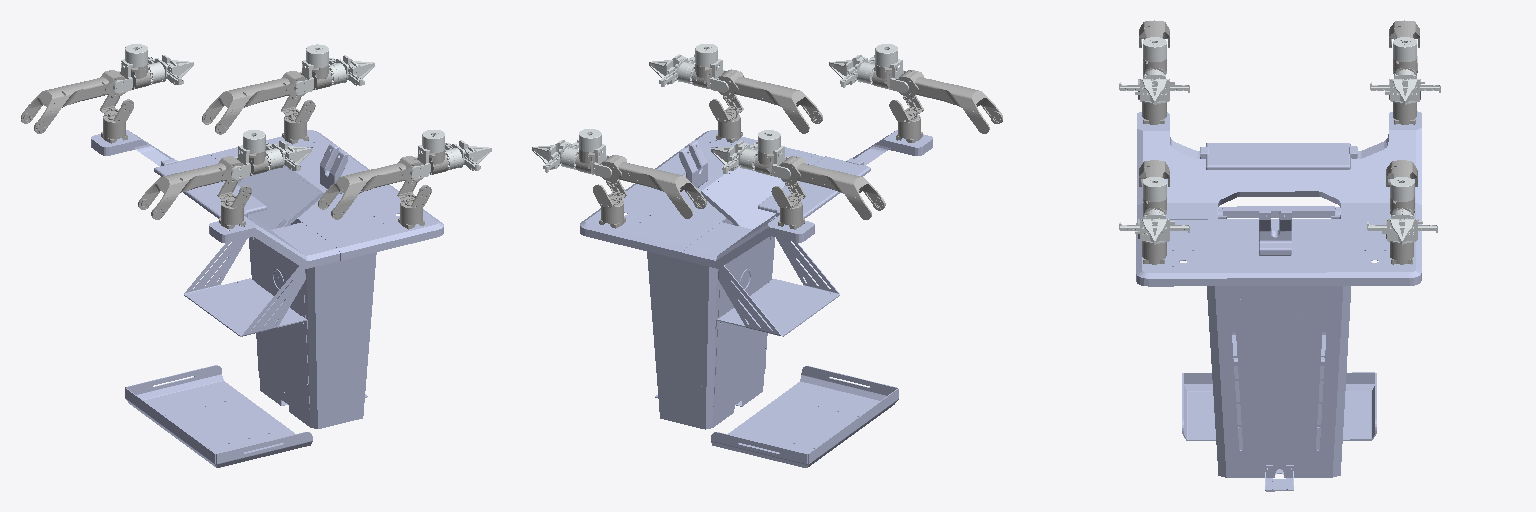
--- Render facts (derived) ---
Views: 3 orthographic renders of the robot side by side, from view 1: azimuth 30°, elevation 25°; view 2: azimuth 150°, elevation 25°; view 3: azimuth 270°, elevation 25°.
Model arx5_description with 51 links and 50 joints (24 revolute, 10 continuous, 8 prismatic, 8 fixed), rooted at footprint, posed every joint at zero.
Visible links, largest first — view 1: box2_Link, box1_Link, lr_link3, rr_link3, fl_link3, fr_link3, fr_link4, rr_link4, fl_link4, lr_link4, fl_link1, rr_link1 (+6 smaller); view 2: box2_Link, box1_Link, lr_link3, fr_link3, rr_link3, fl_link3, lr_link4, fr_link4, fl_link4, rr_link4, lr_link6, fl_link6 (+6 smaller); view 3: box2_Link, box1_Link, fl_link4, lr_link4, fl_link3, rr_link4, fr_link4, fr_link6, rr_link6, fr_link3, lr_link6, fl_link6 (+2 smaller).
Link boxes in pixels (bbox=[...]): box2_Link: bbox=[91, 130, 443, 428]; box1_Link: bbox=[125, 365, 367, 467]; lr_link3: bbox=[21, 70, 125, 133]; rr_link3: bbox=[138, 156, 243, 219]; fl_link3: bbox=[202, 71, 307, 134]; fr_link3: bbox=[318, 156, 423, 219]; fr_link4: bbox=[410, 130, 444, 178]; rr_link4: bbox=[231, 130, 265, 179]; fl_link4: bbox=[294, 44, 328, 93]; lr_link4: bbox=[113, 44, 147, 92]; fl_link1: bbox=[281, 95, 315, 123]; rr_link1: bbox=[217, 181, 251, 208]; box2_Link: bbox=[580, 130, 932, 429]; box1_Link: bbox=[655, 366, 898, 467]; lr_link3: bbox=[779, 156, 885, 219]; fr_link3: bbox=[717, 69, 822, 133]; rr_link3: bbox=[896, 70, 1002, 133]; fl_link3: bbox=[600, 155, 706, 218]; lr_link4: bbox=[758, 130, 790, 178]; fr_link4: bbox=[695, 44, 728, 92]; fl_link4: bbox=[579, 129, 611, 177]; rr_link4: bbox=[875, 44, 908, 92]; lr_link6: bbox=[722, 141, 757, 173]; fl_link6: bbox=[543, 140, 578, 172]; box2_Link: bbox=[1136, 111, 1421, 477]; box1_Link: bbox=[1182, 372, 1376, 491]; fl_link4: bbox=[1390, 177, 1414, 213]; lr_link4: bbox=[1393, 37, 1417, 73]; fl_link3: bbox=[1386, 160, 1417, 186]; rr_link4: bbox=[1143, 37, 1166, 73]; fr_link4: bbox=[1143, 177, 1166, 213]; fr_link6: bbox=[1119, 208, 1189, 235]; rr_link6: bbox=[1119, 69, 1189, 95]; fr_link3: bbox=[1139, 160, 1169, 186]; lr_link6: bbox=[1370, 69, 1440, 95]; fl_link6: bbox=[1367, 208, 1437, 235].
Bounding box of the posed robot: 1.04 × 0.788 × 0.9826 m (x, y, z).
34 mesh visuals loaded from 15 distinct referenced files (10 binary STL); not drawn: 4 (reference not matched to a file when rendering), 11 (file found but could not be loaded).

robot.urdf — arx5_description:
<?xml version="1.0" encoding="utf-8" ?>
<!-- This URDF was automatically created by SolidWorks to URDF Exporter! Originally created by Stephen Brawner ([email redacted]) 
     Commit Version: 1.6.0-4-g7f85cfe  Build Version: 1.6.7995.38578
     For more information, please see http://wiki.ros.org/sw_urdf_exporter -->
<robot name="arx5_description" xmlns:xacro="http://www.ros.org/wiki/xacro">
    <!-- <link name="footprint"/> -->

    <!-- <xacro:include filename="$(find tracer_description)/urdf/tracer_v1.xacro"/> -->

    <link name="footprint">
    </link>

    <!-- tracer base -->
    <link name="base_link">
        <visual>
            <origin xyz="0 0 0" rpy="1.57 0 0"/>
            <!--<origin xyz="0 0 0" rpy="0 0 0"/>-->
            <geometry>
                <mesh filename="package://aloha_isaac_sim/meshes/tracer_base_link_no_wheel.dae" />
                 <!--<box size="${base_x_size} ${base_y_size} ${base_z_size}"/>-->
            </geometry>
        </visual>
        <collision>
          <!--origin
            xyz="-0.0145261552504705 0.0231316650320557 0.00586280190939592"
            rpy="0 0 0" /-->
            <origin xyz="0 0 0" rpy="1.57 0 0"/>
          <geometry>
            <mesh
              filename="package://aloha_isaac_sim/meshes/tracer_base_link_no_wheel.dae" />
              <!--<box size="${base_x_size} ${base_y_size} ${base_z_size}"/>-->
          </geometry>
        </collision>
    </link>
    <link name="inertial_link">
        <inertial>
            <!--mass value="44.3898489950015" /-->
            <mass value="132.3898489950015" />
            <!-- <mass value="50" /> -->
            <!-- <origin xyz="-0.00065 -0.085 0.062" />
            <inertia ixx="0.6022" ixy="-0.02364" ixz="-0.1197" iyy="1.7386" iyz="-0.001544" izz="2.0296" /> -->
            <origin xyz="0.015 0.0231316650320557 0" />
            <!--<origin
              xyz="-0.0145261552504705 0.0231316650320557 0.00586280190939592"
              rpy="0 0 0" />-->
            <inertia ixx="0.185196122711036"
            ixy="4.30144213829512E-08"
            ixz="5.81037523686401E-08"
            iyy="0.364893736238929"
            iyz="-0.000386720198091934"
            izz="0.223868521722778" />
            <!--<inertia ixx="2.288641" ixy="0" ixz="0" iyy="5.103976" iyz="0" izz="3.431465" />-->
        </inertial>
    </link>

    <joint name="inertial_joint" type="fixed">
        <origin xyz="0 0 0" rpy="0 0 0" />
        <parent link="base_link" />
        <child link="inertial_link" />
    </joint>

    <link name="right_wheel_link">
        <inertial>
            <mass value="6" />
            <origin xyz="0 0 0" />
            <inertia ixx="0.7171" ixy="0" ixz="0" iyy="0.1361" iyz="0" izz="0.7171" />
        </inertial>
        <visual>
            <origin xyz="0 0 0" rpy="0 0 0" />
            <geometry>
                <mesh filename="package://aloha_isaac_sim/meshes/tracer_wheel.dae" />
            </geometry>
        </visual>
        <collision>
        <origin
            xyz="0 0 0"
            rpy="0 0 0" />
        <geometry>
            <mesh filename="package://aloha_isaac_sim/meshes/tracer_wheel.dae" />
        </geometry>
        </collision>
    </link>

    <joint name="right_wheel" type="continuous">
        <parent link="base_link"/>
        <child link="right_wheel_link"/>
        <origin xyz="0 -0.17 -0.082" rpy="0 0 0" />        
        <axis xyz="0 1 0" rpy="0 0 0" />
    </joint>

    <link name="left_wheel_link">
        <inertial>
            <mass value="6" />
            <origin xyz="0 0 0" />
            <inertia ixx="0.7171" ixy="0" ixz="0" iyy="0.1361" iyz="0" izz="0.7171" />
        </inertial>
        <visual>
            <origin xyz="0 0 0" rpy="0 0 0" />
            <geometry>
                <mesh filename="package://aloha_isaac_sim/meshes/tracer_wheel.dae" />
            </geometry>
        </visual>
        <collision>
        <origin
            xyz="0 0 0"
            rpy="0 0 0" />
        <geometry>
            <mesh filename="package://aloha_isaac_sim/meshes/tracer_wheel.dae" />
        </geometry>
        </collision>
    </link>

    <joint name="left_wheel" type="continuous">
        <parent link="base_link"/>
        <child link="left_wheel_link"/>
        <origin xyz="0 0.17 -0.082" rpy="0 0 0" />        
        <axis xyz="0 1 0" rpy="0 0 0" />
    </joint>

    <link name="fl_castor_link">
        <inertial>
            <mass value="1" />
            <origin xyz="0 0 0" />
            <inertia ixx="0.7171" ixy="0" ixz="0" iyy="0.1361" iyz="0" izz="0.7171" />
        </inertial>
        <visual>
                <geometry>
                    <mesh filename="package://aloha_isaac_sim/meshes/castor_joint.dae" />
                </geometry>
        </visual>
    </link>

    <joint name="fl_castor_wheel" type="continuous">
        <parent link="base_link" />
        <child link="fl_castor_link" />
        <origin xyz="0.19 0.17 -0.038" rpy="-1.57 0 0" />        
        <axis xyz="0 1 0" rpy="0 0 0" />
    </joint>

    <link name="fr_castor_link">
        <inertial>
            <mass value="1" />
            <origin xyz="0 0 0" />
            <inertia ixx="0.7171" ixy="0" ixz="0" iyy="0.1361" iyz="0" izz="0.7171" />
        </inertial>
        <visual>
                <geometry>
                    <mesh filename="package://aloha_isaac_sim/meshes/castor_joint.dae" />
                </geometry>
        </visual>
    </link>

    <joint name="fr_castor_wheel" type="continuous">
        <origin xyz="0.18955 -0.17 -0.0380886" rpy="-1.57 0 0" />
        <parent link="base_link" />
        <child link="fr_castor_link" />
        <axis xyz="0 1 0" rpy="0 0 0" />
    </joint>

    <link name="rr_castor_link">
        <inertial>
            <mass value="1" />
            <origin xyz="0 0 0" />
            <inertia ixx="0.7171" ixy="0" ixz="0" iyy="0.1361" iyz="0" izz="0.7171" />
        </inertial>
        <visual>
                <geometry>
                    <mesh filename="package://aloha_isaac_sim/meshes/castor_joint.dae" />
                </geometry>
        </visual>
    </link>

    <joint name="rr_castor_wheel" type="continuous">
        <origin xyz="-0.18955 -0.17 -0.0380886" rpy="-1.57 0 0" />
        <parent link="base_link" />
        <child link="rr_castor_link" />
        <axis xyz="0 1 0" rpy="0 0 0" />
    </joint>

    <link name="rl_castor_link">
        <inertial>
            <mass value="1" />
            <origin xyz="0 0 0" />
            <inertia ixx="0.7171" ixy="0" ixz="0" iyy="0.1361" iyz="0" izz="0.7171" />
        </inertial>
        <visual>
                <geometry>
                    <mesh filename="package://aloha_isaac_sim/meshes/castor_joint.dae" />
                </geometry>
        </visual>
    </link>

    <joint name="rl_castor_wheel" type="continuous">
        <origin xyz="-0.18955 0.17 -0.0380886" rpy="-1.57 0 0" />
        <parent link="base_link" />
        <child link="rl_castor_link" />
        <axis xyz="0 1 0" rpy="0 0 0" />
    </joint>

        <link name="fl_wheel_link">
            <inertial>
                <mass value="1" />
                <origin xyz="0 0 0" />
                <inertia ixx="0.3131" ixy="0" ixz="0" iyy="0.3131" iyz="0" izz="0.1361" />
            </inertial>
            <visual>
               <geometry>
                    <mesh filename="package://aloha_isaac_sim/meshes/castor.dae" />
               </geometry>
            </visual>
            <collision>
              <origin
                xyz="0 0 0"
                rpy="0 0 0" />
              <geometry>-->
                <mesh filename="package://aloha_isaac_sim/meshes/castor.dae" />
              </geometry>
            </collision>
        </link>

        <joint name="fl_wheel" type="continuous">
            <parent link="fl_castor_link"/>
            <child link="fl_wheel_link"/>
             <dynamics damping="0.0" friction="0.0"/>
            <origin xyz="-0.0218084 0.077 0" rpy="0 0 0" />
            <axis xyz="0 0 1" rpy="0 0 0" />
        </joint>

        <link name="fr_wheel_link">
            <inertial>
                <mass value="1" />
                <origin xyz="0 0 0" />
                <inertia ixx="0.3131" ixy="0" ixz="0" iyy="0.3131" iyz="0" izz="0.1361" />
            </inertial>
            <visual>
                   <geometry>
                   <mesh filename="package://aloha_isaac_sim/meshes/castor.dae" />
                   </geometry>
            </visual>
            <collision>
              <origin
                xyz="0 0 0"
                rpy="0 0 0" />
              <geometry>-->
                <mesh filename="package://aloha_isaac_sim/meshes/castor.dae" />
              </geometry>
            </collision>
        </link>

        <joint name="fr_wheel" type="continuous">
            <parent link="fr_castor_link"/>
            <child link="fr_wheel_link"/>
            <dynamics damping="0.0" friction="0.0"/>
            <origin xyz="-0.0218084 0.077 0" rpy="0 0 0" />
            <axis xyz="0 0 1" rpy="0 0 0" />
        </joint>

        <link name="rr_wheel_link">
            <inertial>
                <mass value="1" />
                <origin xyz="0 0 0" />
                <inertia ixx="0.3131" ixy="0" ixz="0" iyy="0.3131" iyz="0" izz="0.1361" />
                <!--<inertia ixx="0" ixy="0" ixz="0" iyy="0" iyz="0" izz="0" />-->
            </inertial>
            <visual>
                   <geometry>
                        <mesh filename="package://aloha_isaac_sim/meshes/castor.dae" />
                   </geometry>
            </visual>
            <collision>
              <origin
                xyz="0 0 0"
                rpy="0 0 0" />
              <geometry>
                <mesh filename="package://aloha_isaac_sim/meshes/castor.dae" />
              </geometry>
            </collision>
        </link>

        <joint name="rr_wheel" type="continuous">
            <parent link="rr_castor_link"/>
            <child link="rr_wheel_link"/>
            <dynamics damping="0.0" friction="0.0"/>
            <origin xyz="-0.0218084 0.077 0" rpy="0 0 0" />
            <axis xyz="0 0 1" rpy="0 0 0" />
        </joint>

        <link name="rl_wheel_link">
            <inertial>
                <mass value="1" />
                <origin xyz="0 0 0" />
                <inertia ixx="0.3131" ixy="0" ixz="0" iyy="0.3131" iyz="0" izz="0.1361" />
            </inertial>
            <visual>
                   <geometry>
                        <mesh filename="package://aloha_isaac_sim/meshes/castor.dae" />
                   </geometry>
            </visual>
            <collision>
              <origin
                xyz="0 0 0"
                rpy="0 0 0" />
              <geometry>
                <mesh filename="package://aloha_isaac_sim/meshes/castor.dae" />
              </geometry>
            </collision>
        </link>

        <joint name="rl_wheel" type="continuous">
            <parent link="rl_castor_link"/>
            <child link="rl_wheel_link"/>
            <dynamics damping="0.0" friction="0.0"/>
            <origin xyz="-0.0218084 0.077 0" rpy="0 0 0" />
            <axis xyz="0 0 1" rpy="0 0 0" />
        </joint>

    <!-- aloha base -->
    <joint name="box_joint" type="fixed">
        <origin xyz="0 0 0.15" rpy="0 0 0" />
        <parent link="footprint" />
        <child link="base_link" />
        <axis xyz="0 0 0" />
    </joint>
    <link name="box1_Link">
        <inertial>
            <origin xyz="-0.17227 -0.0012276 0.023432" rpy="0 0 0" />
            <mass value="0.00014994" />
            <inertia ixx="0.012264" ixy="-9.2432E-06" ixz="0.0001761" iyy="0.0045226" iyz="-0.00063248" izz="0.016558" />
        </inertial>
        <visual>
            <origin xyz="0 0 0" rpy="-0.05 0 0" />
            <geometry>
                <mesh filename="package://aloha_isaac_sim/meshes/box1_Link.STL" />
            </geometry>
            <material name="">
                <color rgba="0.79216 0.81961 0.93333 1" />
            </material>
        </visual>
        <collision>
            <origin xyz="0 0 0" rpy="-0.05 0 0" />
            <geometry>
                <mesh filename="package://aloha_isaac_sim/meshes/box1_Link.STL" />
            </geometry>
        </collision>
    </link>
    <joint name="box1" type="fixed">
        <origin xyz="0 0 0.15" rpy="0 0 0" />
        <parent link="footprint" />
        <child link="box1_Link" />
        <axis xyz="0 0 0" />
    </joint>
    <link name="box2_Link">
        <inertial>
            <origin xyz="0.015107 -0.027922 0.00013672" rpy="0 0 0" />
            <mass value="3.736" />
            <inertia ixx="0.097545" ixy="-9.2609E-06" ixz="0.00015366" iyy="0.045841" iyz="-0.0020459" izz="0.084773" />
        </inertial>
        <visual>
            <origin xyz="0 0 0" rpy="-0.05 0 0" />
            <geometry>
                <mesh filename="package://aloha_isaac_sim/meshes/box2_Link.STL" />
            </geometry>
            <material name="">
                <color rgba="0.79216 0.81961 0.93333 1" />
            </material>
        </visual>
        <collision>
            <origin xyz="0 0 0" rpy="-0.05 0 0" />
            <geometry>
                <mesh filename="package://aloha_isaac_sim/meshes/box2_Link.STL" />
            </geometry>
        </collision>
    </link>
    <joint name="box2" type="fixed">
        <origin xyz="0 0 0" rpy="0 0 0" />
        <parent link="box1_Link" />
        <child link="box2_Link" />
        <axis xyz="0 0 0" />
    </joint>
    <!--***************************** front-left ****************************** -->
    <link name="fl_base_link">
        <inertial>
            <origin xyz="-2.9972E-05 3.056E-05 0.027301" rpy="0 0 0" />
            <mass value="0.44038" />
            <inertia ixx="0.00017" ixy="0.00000" ixz="0.00000" iyy="0.00018" iyz="0.00000" izz="0.00016" />
        </inertial>
        <visual>
            <origin xyz="0 0 0" rpy="0 0 0" />
            <geometry>
                <mesh filename="package://aloha_isaac_sim/meshes/base_arm.STL" />
            </geometry>
            <material name="">
                <color rgba="0.75294 0.75294 0.75294 1" />
            </material>
        </visual>
        <collision>
            <origin xyz="0 0 0" rpy="0 0 0" />
            <geometry>
                <mesh filename="package://aloha_isaac_sim/meshes/base_arm.STL" />
            </geometry>
        </collision>
    </link>
    <joint name="fl_base_joint" type="fixed">
        <origin xyz="0.233 0.3 0.7775" rpy="0.0 0.0 0.0" />
        <parent link="footprint" />
        <child link="fl_base_link" />
        <axis xyz="0.0 0.0 1.0" />
    </joint>
    <link name="fl_link1">
        <inertial>
            <origin xyz="0.00609525411893452 -0.00429681977500749 0.0179590247477389" rpy="0 0 0" />
            <mass value="0.0608351104988555" />
            <inertia ixx="0.00008" ixy="0.00000" ixz="0.00001" iyy="0.00003" iyz="0.00000" izz="0.00007" />
        </inertial>
        <visual>
            <origin xyz="0 0 0" rpy="0 0 0" />
            <geometry>
                <mesh filename="package://aloha_isaac_sim/meshes/link1.STL" />
            </geometry>
            <material name="">
                <color rgba="0.752941176470588 0.752941176470588 0.752941176470588 1" />
            </material>
        </visual>
        <collision>
            <origin xyz="0 0 0" rpy="0 0 0" />
            <geometry>
                <mesh filename="package://aloha_isaac_sim/meshes/link1.STL" />
            </geometry>
        </collision>
    </link>
    <joint name="fl_joint1" type="revolute">
        <origin xyz="0 0 0.0603" rpy="0 0 0" />
        <parent link="fl_base_link" />
        <child link="fl_link1" />
        <axis xyz="0 0 1" />
        <limit lower="-10" upper="10" effort="100" velocity="1000" />
    </joint>
    <link name="fl_link2">
        <inertial>
            <origin xyz="-0.132382037190567 0.00220380675553821 0.000111790164679923" rpy="0 0 0" />
            <mass value="1.0733279014126" />
            <inertia ixx="0.00050" ixy="0.00000" ixz="-0.00004" iyy="0.01596" iyz="0.00000" izz="0.01602" />
        </inertial>
        <visual>
            <origin xyz="0 0 0" rpy="0 0 0" />
            <geometry>
                <mesh filename="package://aloha_isaac_sim/meshes/link2.STL" />
            </geometry>
            <material name="">
                <color rgba="0.752941176470588 0.752941176470588 0.752941176470588 1" />
            </material>
        </visual>
        <collision>
            <origin xyz="0 0 0" rpy="0 0 0" />
            <geometry>
                <mesh filename="package://aloha_isaac_sim/meshes/link2.STL" />
            </geometry>
        </collision>
    </link>
    <joint name="fl_joint2" type="revolute">
        <origin xyz="0.02 0 0.0402" rpy="0 0 0" />
        <parent link="fl_link1" />
        <child link="fl_link2" />
        <axis xyz="0 1 0" />
        <limit lower="-10" upper="10" effort="100" velocity="1000" />
    </joint>
    <link name="fl_link3">
        <inertial>
            <origin xyz="0.187203287369961 -0.000305676361444925 -0.0514832866415513" rpy="0 0 0" />
            <mass value="0.499404738025019" />
            <inertia ixx="0.00033" ixy="-0.00006" ixz="-0.00039" iyy="0.00387" iyz="0.00001" izz="0.00383" />
        </inertial>
        <visual>
            <origin xyz="0 0 0" rpy="0 0 0" />
            <geometry>
                <mesh filename="package://aloha_isaac_sim/meshes/link3.STL" />
            </geometry>
            <material name="">
                <color rgba="0.752941176470588 0.752941176470588 0.752941176470588 1" />
            </material>
        </visual>
        <collision>
            <origin xyz="0 0 0" rpy="0 0 0" />
            <geometry>
                <mesh filename="package://aloha_isaac_sim/meshes/link3.STL" />
            </geometry>
        </collision>
    </link>
    <joint name="fl_joint3" type="revolute">
        <origin xyz="-0.264 0 0" rpy="-3.1416 0 0" />
        <parent link="fl_link2" />
        <child link="fl_link3" />
        <axis xyz="0 1 0" />
        <limit lower="-10" upper="10" effort="100" velocity="1000" />
    </joint>
    <link name="fl_link4">
        <inertial>
            <origin xyz="0.0388884702662706 0.00295168681334743 -0.0353282735009622" rpy="0 0 0" />
            <mass value="0.0809712553169999" />
            <inertia ixx="0.00013" ixy="-0.00001" ixz="-0.00006" iyy="0.00016" iyz="0.00001" izz="0.00010" />
        </inertial>
        <visual>
            <origin xyz="0 0 0" rpy="0 0 0" />
            <geometry>
                <mesh filename="package://aloha_isaac_sim/meshes/link4.STL" />
            </geometry>
            <material name="">
                <color rgba="0.898039215686275 0.917647058823529 0.929411764705882 1" />
            </material>
        </visual>
        <collision>
            <origin xyz="0 0 0" rpy="0 0 0" />
            <geometry>
                <mesh filename="package://aloha_isaac_sim/meshes/link4.STL" />
            </geometry>
        </collision>
    </link>
    <joint name="fl_joint4" type="revolute">
        <origin xyz="0.245 0 -0.056" rpy="0 0 0" />
        <parent link="fl_link3" />
        <child link="fl_link4" />
        <axis xyz="0 1 0" />
        <limit lower="-10" upper="10" effort="100" velocity="1000" />
    </joint>
    <link name="fl_link5">
        <inertial>
            <origin xyz="0.00289956909960302 3.15826689885766E-05 0.0526188859211408" rpy="0 0 0" />
            <mass value="0.602357399313257" />
            <inertia ixx="0.00072" ixy="0.00000" ixz="0.00005" iyy="0.00069" iyz="0.00000" izz="0.00021" />
        </inertial>
        <visual>
            <origin xyz="0 0 0" rpy="0 0 0" />
            <geometry>
                <mesh filename="package://aloha_isaac_sim/meshes/link5.STL" />
            </geometry>
            <material name="">
                <color rgba="0.752941176470588 0.752941176470588 0.752941176470588 1" />
            </material>
        </visual>
        <collision>
            <origin xyz="0 0 0" rpy="0 0 0" />
            <geometry>
                <mesh filename="package://aloha_isaac_sim/meshes/link5.STL" />
            </geometry>
        </collision>
    </link>
    <joint name="fl_joint5" type="revolute">
        <origin xyz="0.06575 -0.001 -0.0825" rpy="0 0 0" />
        <parent link="fl_link4" />
        <child link="fl_link5" />
        <axis xyz="0 0 1" />
        <limit lower="-10" upper="10" effort="100" velocity="1000" />
    </joint>
    <link name="fl_link6">
        <inertial>
            <origin xyz="0.0471798400661976 0.000102970421835668 -0.000138510949393961" rpy="0 0 0" />
            <mass value="0.462244960775882" />
            <inertia ixx="0.00068" ixy="0.00000" ixz="0.00000" iyy="0.00036" iyz="-0.00001" izz="0.00091" />
        </inertial>
        <visual>
            <origin xyz="0 0 0" rpy="0 0 0" />
            <geometry>
                <mesh filename="package://aloha_isaac_sim/meshes/link6.STL" />
            </geometry>
            <material name="">
                <color rgba="0.898039215686275 0.917647058823529 0.929411764705882 1" />
            </material>
        </visual>
        <collision>
            <origin xyz="0 0 0" rpy="0 0 0" />
            <geometry>
                <mesh filename="package://aloha_isaac_sim/meshes/link6.STL" />
            </geometry>
        </collision>
    </link>
    <joint name="fl_joint6" type="revolute">
        <origin xyz="0.02845 0 0.0825" rpy="-3.1416 0 0" />
        <parent link="fl_link5" />
        <child link="fl_link6" />
        <axis xyz="1 0 0" />
        <limit lower="-10" upper="10" effort="100" velocity="1000" />
    </joint>
    <link name="fl_link7">
        <inertial>
            <origin xyz="-0.000327642774520215 -0.00482005374028087 -0.00167540868720402" rpy="0 0 0" />
            <mass value="0.0484016660227936" />
            <inertia ixx="0.00001" ixy="0.00000" ixz="0.00000" iyy="0.00002" iyz="0.00000" izz="0.00002" />
        </inertial>
        <visual>
            <origin xyz="0 0 0" rpy="0 0 0" />
            <geometry>
                <mesh filename="package://aloha_isaac_sim/meshes/link7.STL" />
            </geometry>
            <material name="">
                <color rgba="0.898039215686275 0.917647058823529 0.929411764705882 1" />
            </material>
        </visual>
        <collision>
            <origin xyz="0 0 0" rpy="0 0 0" />
            <geometry>
                <mesh filename="package://aloha_isaac_sim/meshes/link7.STL" />
            </geometry>
        </collision>
    </link>
    <joint name="fl_joint7" type="prismatic">
        <origin xyz="0.073574 0.024629 0" rpy="0 0 0" />
        <parent link="fl_link6" />
        <child link="fl_link7" />
        <axis xyz="0 1 0" />
        <limit lower="0" upper="0.04765" effort="100" velocity="100" />
    </joint>
    <link name="fl_link8">
        <inertial>
            <origin xyz="-0.000327643744208572 0.00482005363510456 0.000752972893839382" rpy="0 0 0" />
            <mass value="0.0484016646136083" />
            <inertia ixx="0.00001" ixy="0.00000" ixz="0.00000" iyy="0.00002" iyz="0.00000" izz="0.00002" />
        </inertial>
        <visual>
            <origin xyz="0 0 0" rpy="0 0 0" />
            <geometry>
                <mesh filename="package://aloha_isaac_sim/meshes/link8.STL" />
            </geometry>
            <material name="">
                <color rgba="0.898039215686275 0.917647058823529 0.929411764705882 1" />
            </material>
        </visual>
        <collision>
            <origin xyz="0 0 0" rpy="0 0 0" />
            <geometry>
                <mesh filename="package://aloha_isaac_sim/meshes/link8.STL" />
            </geometry>
        </collision>
    </link>
    <joint name="fl_joint8" type="prismatic">
        <origin xyz="0.073574 -0.024629 0" rpy="0 0 0" />
        <parent link="fl_link6" />
        <child link="fl_link8" />
        <axis xyz="0 -1 0" />
        <limit lower="0" upper="0.04765" effort="100" velocity="100" />
    </joint>
    <!--***************************** front-right ****************************** -->
    <link name="fr_base_link">
        <inertial>
            <origin xyz="-2.9972E-05 3.056E-05 0.027301" rpy="0 0 0" />
            <mass value="0.44038" />
            <inertia ixx="0.00017" ixy="0.00000" ixz="0.00000" iyy="0.00018" iyz="0.00000" izz="0.00016" />
        </inertial>
        <visual>
            <origin xyz="0 0 0" rpy="0 0 0" />
            <geometry>
                <mesh filename="package://aloha_isaac_sim/meshes/base_arm.STL" />
            </geometry>
            <material name="">
                <color rgba="0.75294 0.75294 0.75294 1" />
            </material>
        </visual>
        <collision>
            <origin xyz="0 0 0" rpy="0 0 0" />
            <geometry>
                <mesh filename="package://aloha_isaac_sim/meshes/base_arm.STL" />
            </geometry>
        </collision>
    </link>
    <joint name="fr_base_joint" type="fixed">
        <origin xyz="0.233 -0.307 0.7775" rpy="0.0 0.0 0.0" />
        <parent link="footprint" />
        <child link="fr_base_link" />
        <axis xyz="0.0 0.0 1.0" />
    </joint>
    <link name="fr_link1">
        <inertial>
            <origin xyz="0.00609525411893452 -0.00429681977500749 0.0179590247477389" rpy="0 0 0" />
            <mass value="0.0608351104988555" />
            <inertia ixx="0.00008" ixy="0.00000" ixz="0.00001" iyy="0.00003" iyz="0.00000" izz="0.00007" />
        </inertial>
        <visual>
            <origin xyz="0 0 0" rpy="0 0 0" />
            <geometry>
                <mesh filename="package://aloha_isaac_sim/meshes/link1.STL" />
            </geometry>
            <material name="">
                <color rgba="0.752941176470588 0.752941176470588 0.752941176470588 1" />
            </material>
        </visual>
        <collision>
            <origin xyz="0 0 0" rpy="0 0 0" />
            <geometry>
                <mesh filename="package://aloha_isaac_sim/meshes/link1.STL" />
            </geometry>
        </collision>
    </link>
    <joint name="fr_joint1" type="revolute">
        <origin xyz="0 0 0.0603" rpy="0 0 0" />
        <parent link="fr_base_link" />
        <child link="fr_link1" />
        <axis xyz="0 0 1" />
        <limit lower="-10" upper="10" effort="100" velocity="1000" />
    </joint>
    <link name="fr_link2">
        <inertial>
            <origin xyz="-0.132382037190567 0.00220380675553821 0.000111790164679923" rpy="0 0 0" />
            <mass value="1.0733279014126" />
            <inertia ixx="0.00050" ixy="0.00000" ixz="-0.00004" iyy="0.01596" iyz="0.00000" izz="0.01602" />
        </inertial>
        <visual>
            <origin xyz="0 0 0" rpy="0 0 0" />
            <geometry>
                <mesh filename="package://aloha_isaac_sim/meshes/link2.STL" />
            </geometry>
            <material name="">
                <color rgba="0.752941176470588 0.752941176470588 0.752941176470588 1" />
            </material>
        </visual>
        <collision>
            <origin xyz="0 0 0" rpy="0 0 0" />
            <geometry>
                <mesh filename="package://aloha_isaac_sim/meshes/link2.STL" />
            </geometry>
        </collision>
    </link>
    <joint name="fr_joint2" type="revolute">
        <origin xyz="0.02 0 0.0402" rpy="0 0 0" />
        <parent link="fr_link1" />
        <child link="fr_link2" />
        <axis xyz="0 1 0" />
        <limit lower="-10" upper="10" effort="100" velocity="1000" />
    </joint>
    <link name="fr_link3">
        <inertial>
            <origin xyz="0.187203287369961 -0.000305676361444925 -0.0514832866415513" rpy="0 0 0" />
            <mass value="0.499404738025019" />
            <inertia ixx="0.00033" ixy="-0.00006" ixz="-0.00039" iyy="0.00387" iyz="0.00001" izz="0.00383" />
        </inertial>
        <visual>
            <origin xyz="0 0 0" rpy="0 0 0" />
            <geometry>
                <mesh filename="package://aloha_isaac_sim/meshes/link3.STL" />
            </geometry>
            <material name="">
                <color rgba="0.752941176470588 0.752941176470588 0.752941176470588 1" />
            </material>
        </visual>
        <collision>
            <origin xyz="0 0 0" rpy="0 0 0" />
            <geometry>
                <mesh filename="package://aloha_isaac_sim/meshes/link3.STL" />
            </geometry>
        </collision>
    </link>
    <joint name="fr_joint3" type="revolute">
        <origin xyz="-0.264 0 0" rpy="-3.1416 0 0" />
        <parent link="fr_link2" />
        <child link="fr_link3" />
        <axis xyz="0 1 0" />
        <limit lower="-10" upper="10" effort="100" velocity="1000" />
    </joint>
    <link name="fr_link4">
        <inertial>
            <origin xyz="0.0388884702662706 0.00295168681334743 -0.0353282735009622" rpy="0 0 0" />
            <mass value="0.0809712553169999" />
            <inertia ixx="0.00013" ixy="-0.00001" ixz="-0.00006" iyy="0.00016" iyz="0.00001" izz="0.00010" />
        </inertial>
        <visual>
            <origin xyz="0 0 0" rpy="0 0 0" />
            <geometry>
                <mesh filename="package://aloha_isaac_sim/meshes/link4.STL" />
            </geometry>
            <material name="">
                <color rgba="0.898039215686275 0.917647058823529 0.929411764705882 1" />
            </material>
        </visual>
        <collision>
            <origin xyz="0 0 0" rpy="0 0 0" />
            <geometry>
                <mesh filename="package://aloha_isaac_sim/meshes/link4.STL" />
            </geometry>
        </collision>
    </link>
    <joint name="fr_joint4" type="revolute">
        <origin xyz="0.245 0 -0.056" rpy="0 0 0" />
        <parent link="fr_link3" />
        <child link="fr_link4" />
        <axis xyz="0 1 0" />
        <limit lower="-10" upper="10" effort="100" velocity="1000" />
    </joint>
    <link name="fr_link5">
        <inertial>
            <origin xyz="0.00289956909960302 3.15826689885766E-05 0.0526188859211408" rpy="0 0 0" />
            <mass value="0.602357399313257" />
            <inertia ixx="0.00072" ixy="0.00000" ixz="0.00005" iyy="0.00069" iyz="0.00000" izz="0.00021" />
        </inertial>
        <visual>
            <origin xyz="0 0 0" rpy="0 0 0" />
            <geometry>
                <mesh filename="package://aloha_isaac_sim/meshes/link5.STL" />
            </geometry>
            <material name="">
                <color rgba="0.752941176470588 0.752941176470588 0.752941176470588 1" />
            </material>
        </visual>
        <collision>
            <origin xyz="0 0 0" rpy="0 0 0" />
            <geometry>
                <mesh filename="package://aloha_isaac_sim/meshes/link5.STL" />
            </geometry>
        </collision>
    </link>
    <joint name="fr_joint5" type="revolute">
        <origin xyz="0.06575 -0.001 -0.0825" rpy="0 0 0" />
        <parent link="fr_link4" />
        <child link="fr_link5" />
        <axis xyz="0 0 1" />
        <limit lower="-10" upper="10" effort="100" velocity="1000" />
    </joint>
    <link name="fr_link6">
        <inertial>
            <origin xyz="0.0471798400661976 0.000102970421835668 -0.000138510949393961" rpy="0 0 0" />
            <mass value="0.462244960775882" />
            <inertia ixx="0.00068" ixy="0.00000" ixz="0.00000" iyy="0.00036" iyz="-0.00001" izz="0.00091" />
        </inertial>
        <visual>
            <origin xyz="0 0 0" rpy="0 0 0" />
            <geometry>
                <mesh filename="package://aloha_isaac_sim/meshes/link6.STL" />
            </geometry>
            <material name="">
                <color rgba="0.898039215686275 0.917647058823529 0.929411764705882 1" />
            </material>
        </visual>
        <collision>
            <origin xyz="0 0 0" rpy="0 0 0" />
            <geometry>
                <mesh filename="package://aloha_isaac_sim/meshes/link6.STL" />
            </geometry>
        </collision>
    </link>
    <joint name="fr_joint6" type="revolute">
        <origin xyz="0.02845 0 0.0825" rpy="-3.1416 0 0" />
        <parent link="fr_link5" />
        <child link="fr_link6" />
        <axis xyz="1 0 0" />
        <limit lower="-10" upper="10" effort="100" velocity="1000" />
    </joint>
    <link name="fr_link7">
        <inertial>
            <origin xyz="-0.000327642774520215 -0.00482005374028087 -0.00167540868720402" rpy="0 0 0" />
            <mass value="0.0484016660227936" />
            <inertia ixx="0.00001" ixy="0.00000" ixz="0.00000" iyy="0.00002" iyz="0.00000" izz="0.00002" />
        </inertial>
        <visual>
            <origin xyz="0 0 0" rpy="0 0 0" />
            <geometry>
                <mesh filename="package://aloha_isaac_sim/meshes/link7.STL" />
            </geometry>
            <material name="">
                <color rgba="0.898039215686275 0.917647058823529 0.929411764705882 1" />
            </material>
        </visual>
        <collision>
            <origin xyz="0 0 0" rpy="0 0 0" />
            <geometry>
                <mesh filename="package://aloha_isaac_sim/meshes/link7.STL" />
            </geometry>
        </collision>
    </link>
    <joint name="fr_joint7" type="prismatic">
        <origin xyz="0.073574 0.024629 0" rpy="0 0 0" />
        <parent link="fr_link6" />
        <child link="fr_link7" />
        <axis xyz="0 1 0" />
        <limit lower="0" upper="0.04765" effort="100" velocity="100" />
    </joint>
    <link name="fr_link8">
        <inertial>
            <origin xyz="-0.000327643744208572 0.00482005363510456 0.000752972893839382" rpy="0 0 0" />
            <mass value="0.0484016646136083" />
            <inertia ixx="0.00001" ixy="0.00000" ixz="0.00000" iyy="0.00002" iyz="0.00000" izz="0.00002" />
        </inertial>
        <visual>
            <origin xyz="0 0 0" rpy="0 0 0" />
            <geometry>
                <mesh filename="package://aloha_isaac_sim/meshes/link8.STL" />
            </geometry>
            <material name="">
                <color rgba="0.898039215686275 0.917647058823529 0.929411764705882 1" />
            </material>
        </visual>
        <collision>
            <origin xyz="0 0 0" rpy="0 0 0" />
            <geometry>
                <mesh filename="package://aloha_isaac_sim/meshes/link8.STL" />
            </geometry>
        </collision>
    </link>
    <joint name="fr_joint8" type="prismatic">
        <origin xyz="0.073574 -0.024629 0" rpy="0 0 0" />
        <parent link="fr_link6" />
        <child link="fr_link8" />
        <axis xyz="0 -1 0" />
        <limit lower="0" upper="0.04765" effort="100" velocity="100" />
    </joint>

    <!--***************************** left-rear ****************************** -->
    <link name="lr_base_link">
        <inertial>
            <origin xyz="-2.9972E-05 3.056E-05 0.027301" rpy="0 0 0" />
            <mass value="0.44038" />
            <inertia ixx="0.00017" ixy="0.00000" ixz="0.00000" iyy="0.00018" iyz="0.00000" izz="0.00016" />
        </inertial>
        <visual>
            <origin xyz="0 0 0" rpy="0 0 0" />
            <geometry>
                <mesh filename="package://aloha_isaac_sim/meshes/base_arm.STL" />
            </geometry>
            <material name="">
                <color rgba="0.75294 0.75294 0.75294 1" />
            </material>
        </visual>
        <collision>
            <origin xyz="0 0 0" rpy="0 0 0" />
            <geometry>
                <mesh filename="package://aloha_isaac_sim/meshes/base_arm.STL" />
            </geometry>
        </collision>
    </link>
    <joint name="lr_base_joint" type="fixed">
        <origin xyz="-0.309 0.307 0.903" rpy="0.0 0.0 0.0" />
        <parent link="footprint" />
        <child link="lr_base_link" />
        <axis xyz="0.0 0.0 1.0" />
    </joint>
    <link name="lr_link1">
        <inertial>
            <origin xyz="0.00609525411893452 -0.00429681977500749 0.0179590247477389" rpy="0 0 0" />
            <mass value="0.0608351104988555" />
            <inertia ixx="0.00008" ixy="0.00000" ixz="0.00001" iyy="0.00003" iyz="0.00000" izz="0.00007" />
        </inertial>
        <visual>
            <origin xyz="0 0 0" rpy="0 0 0" />
            <geometry>
                <mesh filename="package://aloha_isaac_sim/meshes/link1.STL" />
            </geometry>
            <material name="">
                <color rgba="0.752941176470588 0.752941176470588 0.752941176470588 1" />
            </material>
        </visual>
        <collision>
            <origin xyz="0 0 0" rpy="0 0 0" />
            <geometry>
                <mesh filename="package://aloha_isaac_sim/meshes/link1.STL" />
            </geometry>
        </collision>
    </link>
    <joint name="lr_joint1" type="revolute">
        <origin xyz="0 0 0.0603" rpy="0 0 0" />
        <parent link="lr_base_link" />
        <child link="lr_link1" />
        <axis xyz="0 0 1" />
        <limit lower="-10" upper="10" effort="100" velocity="1000" />
    </joint>
    <link name="lr_link2">
        <inertial>
            <origin xyz="-0.132382037190567 0.00220380675553821 0.000111790164679923" rpy="0 0 0" />
            <mass value="1.0733279014126" />
            <inertia ixx="0.00050" ixy="0.00000" ixz="-0.00004" iyy="0.01596" iyz="0.00000" izz="0.01602" />
        </inertial>
        <visual>
            <origin xyz="0 0 0" rpy="0 0 0" />
            <geometry>
                <mesh filename="package://aloha_isaac_sim/meshes/link2.STL" />
            </geometry>
            <material name="">
                <color rgba="0.752941176470588 0.752941176470588 0.752941176470588 1" />
            </material>
        </visual>
        <collision>
            <origin xyz="0 0 0" rpy="0 0 0" />
            <geometry>
                <mesh filename="package://aloha_isaac_sim/meshes/link2.STL" />
            </geometry>
        </collision>
    </link>
    <joint name="lr_joint2" type="revolute">
        <origin xyz="0.02 0 0.0402" rpy="0 0 0" />
        <parent link="lr_link1" />
        <child link="lr_link2" />
        <axis xyz="0 1 0" />
        <dynamics damping="0.0" friction="100.0"/>
        <limit lower="-10" upper="10" effort="100" velocity="1000" />
    </joint>
    <link name="lr_link3">
        <inertial>
            <origin xyz="0.187203287369961 -0.000305676361444925 -0.0514832866415513" rpy="0 0 0" />
            <mass value="0.499404738025019" />
            <inertia ixx="0.00033" ixy="-0.00006" ixz="-0.00039" iyy="0.00387" iyz="0.00001" izz="0.00383" />
        </inertial>
        <visual>
            <origin xyz="0 0 0" rpy="0 0 0" />
            <geometry>
                <mesh filename="package://aloha_isaac_sim/meshes/link3.STL" />
            </geometry>
            <material name="">
                <color rgba="0.752941176470588 0.752941176470588 0.752941176470588 1" />
            </material>
        </visual>
        <collision>
            <origin xyz="0 0 0" rpy="0 0 0" />
            <geometry>
                <mesh filename="package://aloha_isaac_sim/meshes/link3.STL" />
            </geometry>
        </collision>
    </link>
    <joint name="lr_joint3" type="revolute">
        <origin xyz="-0.264 0 0" rpy="-3.1416 0 0" />
        <parent link="lr_link2" />
        <child link="lr_link3" />
        <axis xyz="0 1 0" />
        <dynamics damping="0.0" friction="100.0"/>
        <limit lower="-10" upper="10" effort="100" velocity="1000" />
    </joint>
    <link name="lr_link4">
        <inertial>
            <origin xyz="0.0388884702662706 0.00295168681334743 -0.0353282735009622" rpy="0 0 0" />
            <mass value="0.0809712553169999" />
            <inertia ixx="0.00013" ixy="-0.00001" ixz="-0.00006" iyy="0.00016" iyz="0.00001" izz="0.00010" />
        </inertial>
        <visual>
            <origin xyz="0 0 0" rpy="0 0 0" />
            <geometry>
                <mesh filename="package://aloha_isaac_sim/meshes/link4.STL" />
            </geometry>
            <material name="">
                <color rgba="0.898039215686275 0.917647058823529 0.929411764705882 1" />
            </material>
        </visual>
        <collision>
            <origin xyz="0 0 0" rpy="0 0 0" />
            <geometry>
                <mesh filename="package://aloha_isaac_sim/meshes/link4.STL" />
            </geometry>
        </collision>
    </link>
    <joint name="lr_joint4" type="revolute">
        <origin xyz="0.245 0 -0.056" rpy="0 0 0" />
        <parent link="lr_link3" />
        <child link="lr_link4" />
        <axis xyz="0 1 0" />
        <limit lower="-10" upper="10" effort="100" velocity="1000" />
    </joint>
    <link name="lr_link5">
        <inertial>
            <origin xyz="0.00289956909960302 3.15826689885766E-05 0.0526188859211408" rpy="0 0 0" />
            <mass value="0.602357399313257" />
            <inertia ixx="0.00072" ixy="0.00000" ixz="0.00005" iyy="0.00069" iyz="0.00000" izz="0.00021" />
        </inertial>
        <visual>
            <origin xyz="0 0 0" rpy="0 0 0" />
            <geometry>
                <mesh filename="package://aloha_isaac_sim/meshes/link5.STL" />
            </geometry>
            <material name="">
                <color rgba="0.752941176470588 0.752941176470588 0.752941176470588 1" />
            </material>
        </visual>
        <collision>
            <origin xyz="0 0 0" rpy="0 0 0" />
            <geometry>
                <mesh filename="package://aloha_isaac_sim/meshes/link5.STL" />
            </geometry>
        </collision>
    </link>
    <joint name="lr_joint5" type="revolute">
        <origin xyz="0.06575 -0.001 -0.0825" rpy="0 0 0" />
        <parent link="lr_link4" />
        <child link="lr_link5" />
        <axis xyz="0 0 1" />
        <limit lower="-10" upper="10" effort="100" velocity="1000" />
    </joint>
    <link name="lr_link6">
        <inertial>
            <origin xyz="0.0471798400661976 0.000102970421835668 -0.000138510949393961" rpy="0 0 0" />
            <mass value="0.462244960775882" />
            <inertia ixx="0.00068" ixy="0.00000" ixz="0.00000" iyy="0.00036" iyz="-0.00001" izz="0.00091" />
        </inertial>
        <visual>
            <origin xyz="0 0 0" rpy="0 0 0" />
            <geometry>
                <mesh filename="package://aloha_isaac_sim/meshes/link6.STL" />
            </geometry>
            <material name="">
                <color rgba="0.898039215686275 0.917647058823529 0.929411764705882 1" />
            </material>
        </visual>
        <collision>
            <origin xyz="0 0 0" rpy="0 0 0" />
            <geometry>
                <mesh filename="package://aloha_isaac_sim/meshes/link6.STL" />
            </geometry>
        </collision>
    </link>
    <joint name="lr_joint6" type="revolute">
        <origin xyz="0.02845 0 0.0825" rpy="-3.1416 0 0" />
        <parent link="lr_link5" />
        <child link="lr_link6" />
        <axis xyz="1 0 0" />
        <limit lower="-10" upper="10" effort="100" velocity="1000" />
    </joint>
    <link name="lr_link7">
        <inertial>
            <origin xyz="-0.000327642774520215 -0.00482005374028087 -0.00167540868720402" rpy="0 0 0" />
            <mass value="0.0484016660227936" />
            <inertia ixx="0.00001" ixy="0.00000" ixz="0.00000" iyy="0.00002" iyz="0.00000" izz="0.00002" />
        </inertial>
        <visual>
            <origin xyz="0 0 0" rpy="0 0 0" />
            <geometry>
                <mesh filename="package://aloha_isaac_sim/meshes/link7.STL" />
            </geometry>
            <material name="">
                <color rgba="0.898039215686275 0.917647058823529 0.929411764705882 1" />
            </material>
        </visual>
        <collision>
            <origin xyz="0 0 0" rpy="0 0 0" />
            <geometry>
                <mesh filename="package://aloha_isaac_sim/meshes/link7.STL" />
            </geometry>
        </collision>
    </link>
    <joint name="lr_joint7" type="prismatic">
        <origin xyz="0.073574 0.024629 0" rpy="0 0 0" />
        <parent link="lr_link6" />
        <child link="lr_link7" />
        <axis xyz="0 1 0" />
        <limit lower="0" upper="0.04765" effort="100" velocity="100" />
    </joint>
    <link name="lr_link8">
        <inertial>
            <origin xyz="-0.000327643744208572 0.00482005363510456 0.000752972893839382" rpy="0 0 0" />
            <mass value="0.0484016646136083" />
            <inertia ixx="0.00001" ixy="0.00000" ixz="0.00000" iyy="0.00002" iyz="0.00000" izz="0.00002" />
        </inertial>
        <visual>
            <origin xyz="0 0 0" rpy="0 0 0" />
            <geometry>
                <mesh filename="package://aloha_isaac_sim/meshes/link8.STL" />
            </geometry>
            <material name="">
                <color rgba="0.898039215686275 0.917647058823529 0.929411764705882 1" />
            </material>
        </visual>
        <collision>
            <origin xyz="0 0 0" rpy="0 0 0" />
            <geometry>
                <mesh filename="package://aloha_isaac_sim/meshes/link8.STL" />
            </geometry>
        </collision>
    </link>
    <joint name="lr_joint8" type="prismatic">
        <origin xyz="0.073574 -0.024629 0" rpy="0 0 0" />
        <parent link="lr_link6" />
        <child link="lr_link8" />
        <axis xyz="0 -1 0" />
        <limit lower="0" upper="0.04765" effort="100" velocity="100" />
    </joint>

    <!--***************************** right-rear ****************************** -->
    <link name="rr_base_link">
        <inertial>
            <origin xyz="-2.9972E-05 3.056E-05 0.027301" rpy="0 0 0" />
            <mass value="0.44038" />
            <inertia ixx="0.00017" ixy="0.00000" ixz="0.00000" iyy="0.00018" iyz="0.00000" izz="0.00016" />
        </inertial>
        <visual>
            <origin xyz="0 0 0" rpy="0 0 0" />
            <geometry>
                <mesh filename="package://aloha_isaac_sim/meshes/base_arm.STL" />
            </geometry>
            <material name="">
                <color rgba="0.75294 0.75294 0.75294 1" />
            </material>
        </visual>
        <collision>
            <origin xyz="0 0 0" rpy="0 0 0" />
            <geometry>
                <mesh filename="package://aloha_isaac_sim/meshes/base_arm.STL" />
            </geometry>
        </collision>
    </link>
    <joint name="rr_base_joint" type="fixed">
        <origin xyz="-0.309 -0.307 0.903" rpy="0.0 0.0 0.0" />
        <parent link="footprint" />
        <child link="rr_base_link" />
        <axis xyz="0.0 0.0 1.0" />
    </joint>
    <link name="rr_link1">
        <inertial>
            <origin xyz="0.00609525411893452 -0.00429681977500749 0.0179590247477389" rpy="0 0 0" />
            <mass value="0.0608351104988555" />
            <inertia ixx="0.00008" ixy="0.00000" ixz="0.00001" iyy="0.00003" iyz="0.00000" izz="0.00007" />
        </inertial>
        <visual>
            <origin xyz="0 0 0" rpy="0 0 0" />
            <geometry>
                <mesh filename="package://aloha_isaac_sim/meshes/link1.STL" />
            </geometry>
            <material name="">
                <color rgba="0.752941176470588 0.752941176470588 0.752941176470588 1" />
            </material>
        </visual>
        <collision>
            <origin xyz="0 0 0" rpy="0 0 0" />
            <geometry>
                <mesh filename="package://aloha_isaac_sim/meshes/link1.STL" />
            </geometry>
        </collision>
    </link>
    <joint name="rr_joint1" type="revolute">
        <origin xyz="0 0 0.0603" rpy="0 0 0" />
        <parent link="rr_base_link" />
        <child link="rr_link1" />
        <axis xyz="0 0 1" />
        <limit lower="-10" upper="10" effort="100" velocity="1000" />
    </joint>
    <link name="rr_link2">
        <inertial>
            <origin xyz="-0.132382037190567 0.00220380675553821 0.000111790164679923" rpy="0 0 0" />
            <mass value="1.0733279014126" />
            <inertia ixx="0.00050" ixy="0.00000" ixz="-0.00004" iyy="0.01596" iyz="0.00000" izz="0.01602" />
        </inertial>
        <visual>
            <origin xyz="0 0 0" rpy="0 0 0" />
            <geometry>
                <mesh filename="package://aloha_isaac_sim/meshes/link2.STL" />
            </geometry>
            <material name="">
                <color rgba="0.752941176470588 0.752941176470588 0.752941176470588 1" />
            </material>
        </visual>
        <collision>
            <origin xyz="0 0 0" rpy="0 0 0" />
            <geometry>
                <mesh filename="package://aloha_isaac_sim/meshes/link2.STL" />
            </geometry>
        </collision>
    </link>
    <joint name="rr_joint2" type="revolute">
        <origin xyz="0.02 0 0.0402" rpy="0 0 0" />
        <parent link="rr_link1" />
        <child link="rr_link2" />
        <axis xyz="0 1 0" />
        <limit lower="-10" upper="10" effort="100" velocity="1000" />
    </joint>
    <link name="rr_link3">
        <inertial>
            <origin xyz="0.187203287369961 -0.000305676361444925 -0.0514832866415513" rpy="0 0 0" />
            <mass value="0.499404738025019" />
            <inertia ixx="0.00033" ixy="-0.00006" ixz="-0.00039" iyy="0.00387" iyz="0.00001" izz="0.00383" />
        </inertial>
        <visual>
            <origin xyz="0 0 0" rpy="0 0 0" />
            <geometry>
                <mesh filename="package://aloha_isaac_sim/meshes/link3.STL" />
            </geometry>
            <material name="">
                <color rgba="0.752941176470588 0.752941176470588 0.752941176470588 1" />
            </material>
        </visual>
        <collision>
            <origin xyz="0 0 0" rpy="0 0 0" />
            <geometry>
                <mesh filename="package://aloha_isaac_sim/meshes/link3.STL" />
            </geometry>
        </collision>
    </link>
    <joint name="rr_joint3" type="revolute">
        <origin xyz="-0.264 0 0" rpy="-3.1416 0 0" />
        <parent link="rr_link2" />
        <child link="rr_link3" />
        <axis xyz="0 1 0" />
        <limit lower="-10" upper="10" effort="100" velocity="1000" />
    </joint>
    <link name="rr_link4">
        <inertial>
            <origin xyz="0.0388884702662706 0.00295168681334743 -0.0353282735009622" rpy="0 0 0" />
            <mass value="0.0809712553169999" />
            <inertia ixx="0.00013" ixy="-0.00001" ixz="-0.00006" iyy="0.00016" iyz="0.00001" izz="0.00010" />
        </inertial>
        <visual>
            <origin xyz="0 0 0" rpy="0 0 0" />
            <geometry>
                <mesh filename="package://aloha_isaac_sim/meshes/link4.STL" />
            </geometry>
            <material name="">
                <color rgba="0.898039215686275 0.917647058823529 0.929411764705882 1" />
            </material>
        </visual>
        <collision>
            <origin xyz="0 0 0" rpy="0 0 0" />
            <geometry>
                <mesh filename="package://aloha_isaac_sim/meshes/link4.STL" />
            </geometry>
        </collision>
    </link>
    <joint name="rr_joint4" type="revolute">
        <origin xyz="0.245 0 -0.056" rpy="0 0 0" />
        <parent link="rr_link3" />
        <child link="rr_link4" />
        <axis xyz="0 1 0" />
        <limit lower="-10" upper="10" effort="100" velocity="1000" />
    </joint>
    <link name="rr_link5">
        <inertial>
            <origin xyz="0.00289956909960302 3.15826689885766E-05 0.0526188859211408" rpy="0 0 0" />
            <mass value="0.602357399313257" />
            <inertia ixx="0.00072" ixy="0.00000" ixz="0.00005" iyy="0.00069" iyz="0.00000" izz="0.00021" />
        </inertial>
        <visual>
            <origin xyz="0 0 0" rpy="0 0 0" />
            <geometry>
                <mesh filename="package://aloha_isaac_sim/meshes/link5.STL" />
            </geometry>
            <material name="">
                <color rgba="0.752941176470588 0.752941176470588 0.752941176470588 1" />
            </material>
        </visual>
        <collision>
            <origin xyz="0 0 0" rpy="0 0 0" />
            <geometry>
                <mesh filename="package://aloha_isaac_sim/meshes/link5.STL" />
            </geometry>
        </collision>
    </link>
    <joint name="rr_joint5" type="revolute">
        <origin xyz="0.06575 -0.001 -0.0825" rpy="0 0 0" />
        <parent link="rr_link4" />
        <child link="rr_link5" />
        <axis xyz="0 0 1" />
        <limit lower="-10" upper="10" effort="100" velocity="1000" />
    </joint>
    <link name="rr_link6">
        <inertial>
            <origin xyz="0.0471798400661976 0.000102970421835668 -0.000138510949393961" rpy="0 0 0" />
            <mass value="0.462244960775882" />
            <inertia ixx="0.00068" ixy="0.00000" ixz="0.00000" iyy="0.00036" iyz="-0.00001" izz="0.00091" />
        </inertial>
        <visual>
            <origin xyz="0 0 0" rpy="0 0 0" />
            <geometry>
                <mesh filename="package://aloha_isaac_sim/meshes/link6.STL" />
            </geometry>
            <material name="">
                <color rgba="0.898039215686275 0.917647058823529 0.929411764705882 1" />
            </material>
        </visual>
        <collision>
            <origin xyz="0 0 0" rpy="0 0 0" />
            <geometry>
                <mesh filename="package://aloha_isaac_sim/meshes/link6.STL" />
            </geometry>
        </collision>
    </link>
    <joint name="rr_joint6" type="revolute">
        <origin xyz="0.02845 0 0.0825" rpy="-3.1416 0 0" />
        <parent link="rr_link5" />
        <child link="rr_link6" />
        <axis xyz="1 0 0" />
        <limit lower="-10" upper="10" effort="100" velocity="1000" />
    </joint>
    <link name="rr_link7">
        <inertial>
            <origin xyz="-0.000327642774520215 -0.00482005374028087 -0.00167540868720402" rpy="0 0 0" />
            <mass value="0.0484016660227936" />
            <inertia ixx="0.00001" ixy="0.00000" ixz="0.00000" iyy="0.00002" iyz="0.00000" izz="0.00002" />
        </inertial>
        <visual>
            <origin xyz="0 0 0" rpy="0 0 0" />
            <geometry>
                <mesh filename="package://aloha_isaac_sim/meshes/link7.STL" />
            </geometry>
            <material name="">
                <color rgba="0.898039215686275 0.917647058823529 0.929411764705882 1" />
            </material>
        </visual>
        <collision>
            <origin xyz="0 0 0" rpy="0 0 0" />
            <geometry>
                <mesh filename="package://aloha_isaac_sim/meshes/link7.STL" />
            </geometry>
        </collision>
    </link>
    <joint name="rr_joint7" type="prismatic">
        <origin xyz="0.073574 0.024629 0" rpy="0 0 0" />
        <parent link="rr_link6" />
        <child link="rr_link7" />
        <axis xyz="0 1 0" />
        <limit lower="0" upper="0.04765" effort="100" velocity="100" />
    </joint>
    <link name="rr_link8">
        <inertial>
            <origin xyz="-0.000327643744208572 0.00482005363510456 0.000752972893839382" rpy="0 0 0" />
            <mass value="0.0484016646136083" />
            <inertia ixx="0.00001" ixy="0.00000" ixz="0.00000" iyy="0.00002" iyz="0.00000" izz="0.00002" />
        </inertial>
        <visual>
            <origin xyz="0 0 0" rpy="0 0 0" />
            <geometry>
                <mesh filename="package://aloha_isaac_sim/meshes/link8.STL" />
            </geometry>
            <material name="">
                <color rgba="0.898039215686275 0.917647058823529 0.929411764705882 1" />
            </material>
        </visual>
        <collision>
            <origin xyz="0 0 0" rpy="0 0 0" />
            <geometry>
                <mesh filename="package://aloha_isaac_sim/meshes/link8.STL" />
            </geometry>
        </collision>
    </link>
    <joint name="rr_joint8" type="prismatic">
        <origin xyz="0.073574 -0.024629 0" rpy="0 0 0" />
        <parent link="rr_link6" />
        <child link="rr_link8" />
        <axis xyz="0 -1 0" />
        <limit lower="0" upper="0.04765" effort="100" velocity="100" />
    </joint>

</robot>
